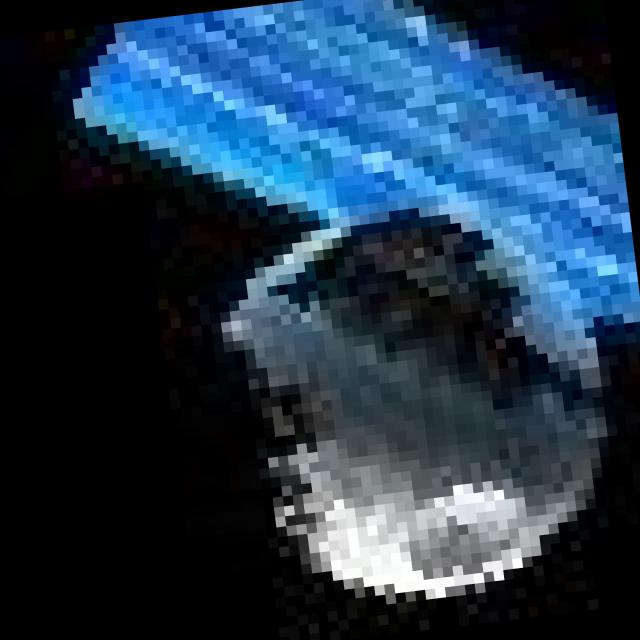Death Star: (188, 170, 636, 624)
